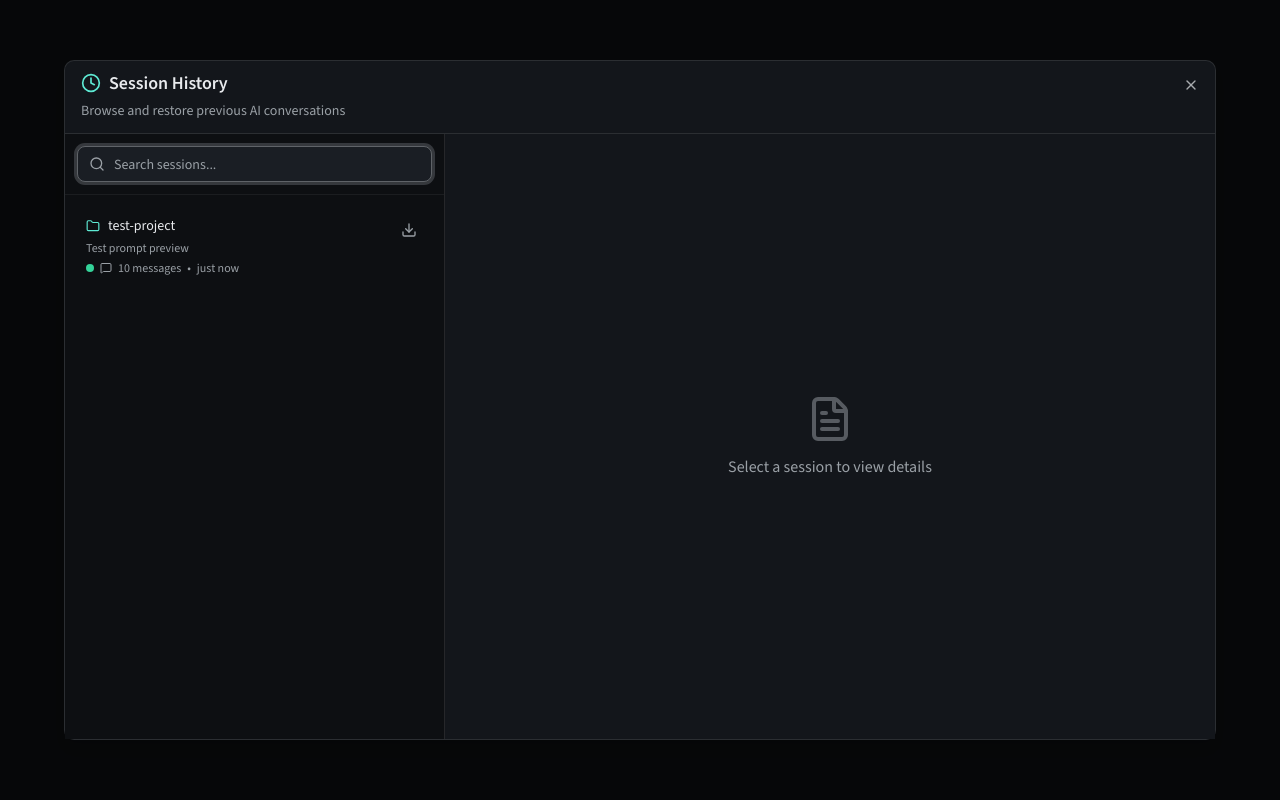
Test case: SessionBrowser › message list virtualization › should render messages container with virtualization support
This screenshot has width=1280, height=800.
Click the text "test-project" at (142, 226), box [108,216,175,236]
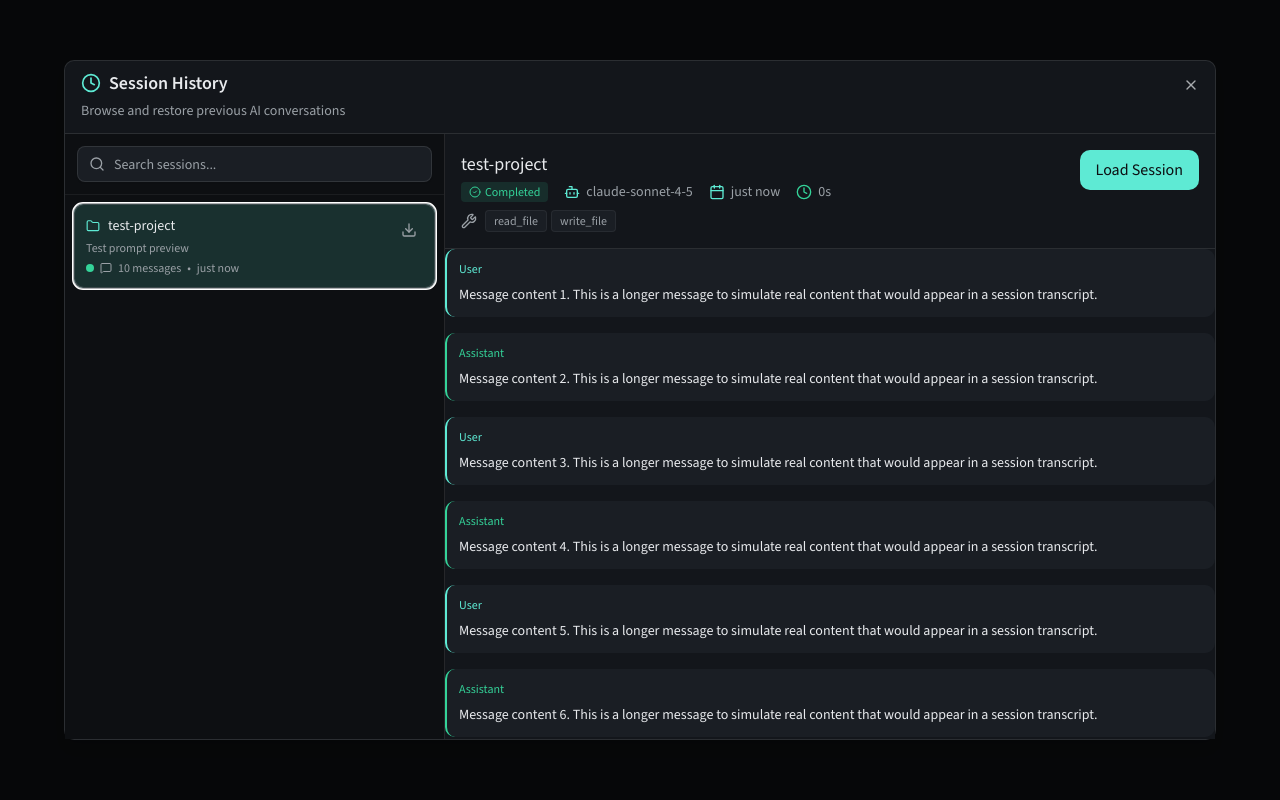
Expected: the button "Load Session" is shown, [1080,150,1199,190]
Expected: the element with test id "messages-container" is shown, [445,249,1215,739]
